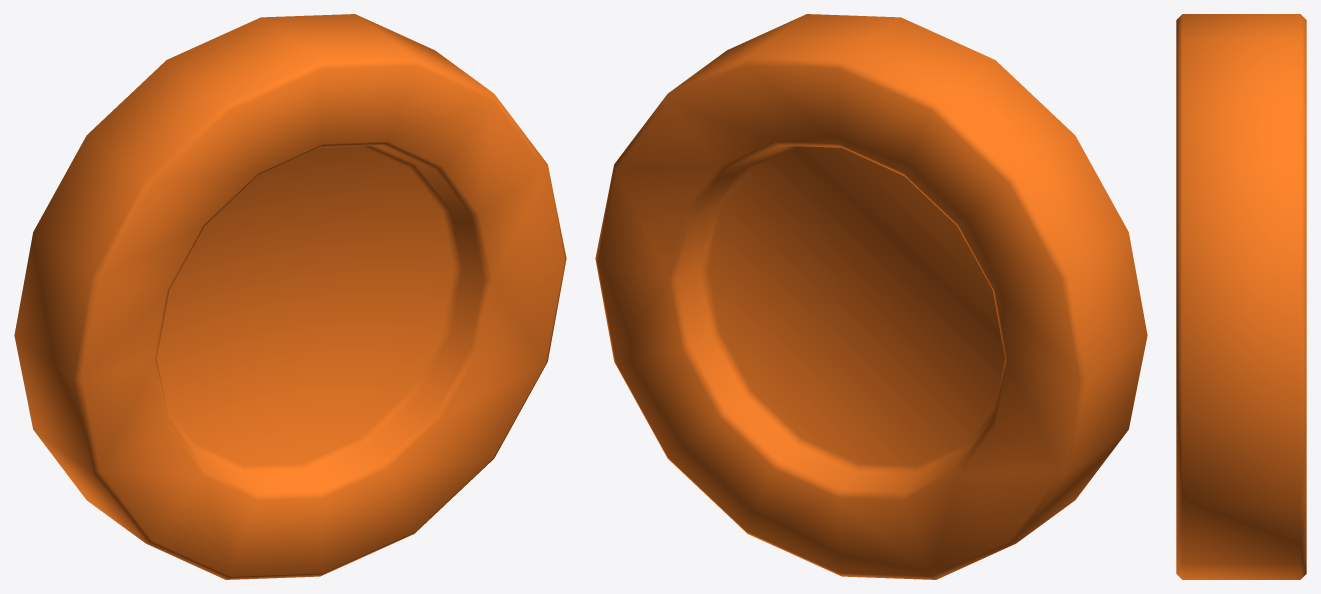
The model's file is coin.glb.
The picture shows the model from 3 angles, left to right: view 1: azimuth 30°, elevation 25°; view 2: azimuth 150°, elevation 25°; view 3: azimuth 270°, elevation 25°; orthographic projection.
Visible parts, largest first — view 1: RunnerCoin; view 2: RunnerCoin; view 3: RunnerCoin.
Boxes of the visible parts, <box> form: RunnerCoin: <box>14,14,566,579</box>; RunnerCoin: <box>595,14,1147,579</box>; RunnerCoin: <box>1176,14,1306,579</box>.
Bounding box in the file's own units: 1 × 1 × 0.2298.
